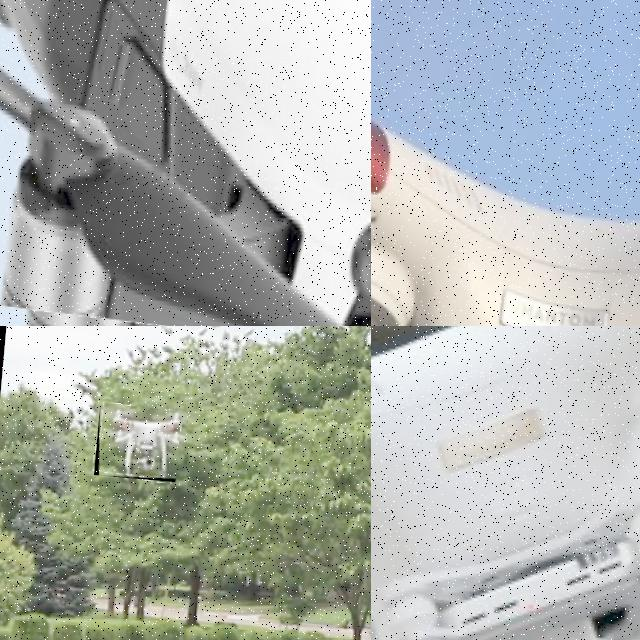0: (371, 326, 640, 640), (94, 403, 182, 482)
drone: (0, 0, 371, 326), (371, 0, 640, 326)
